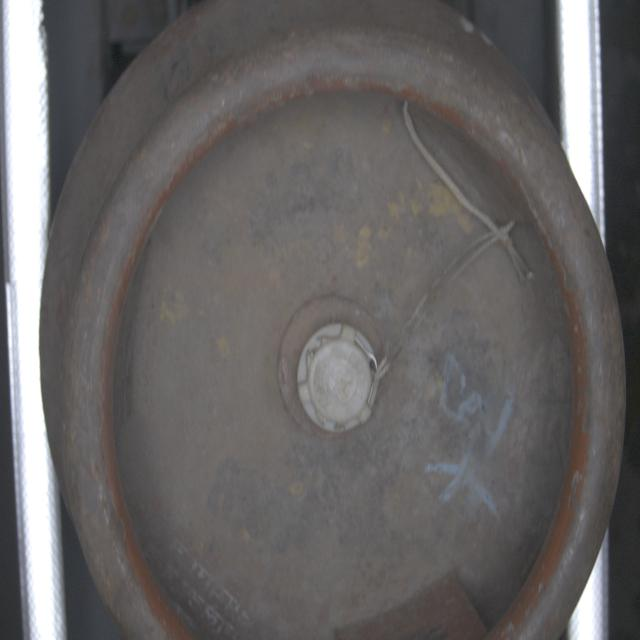Cap: (293, 318, 383, 442)
